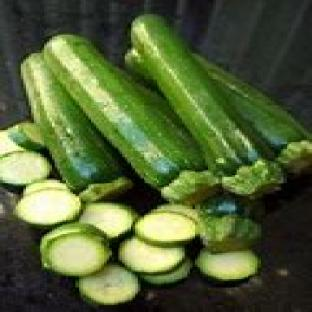Zucchini: (45, 35, 218, 201), (131, 14, 283, 195), (21, 53, 122, 190), (195, 56, 311, 173), (40, 224, 111, 275), (198, 195, 260, 253), (76, 264, 140, 305), (40, 222, 98, 266), (118, 236, 184, 273), (16, 189, 80, 227), (79, 203, 137, 239), (136, 212, 197, 246), (195, 250, 260, 280), (0, 151, 51, 185), (141, 259, 192, 286), (79, 177, 132, 202), (8, 122, 44, 150), (125, 49, 153, 84), (151, 203, 197, 221), (24, 179, 70, 195), (0, 130, 23, 156)
